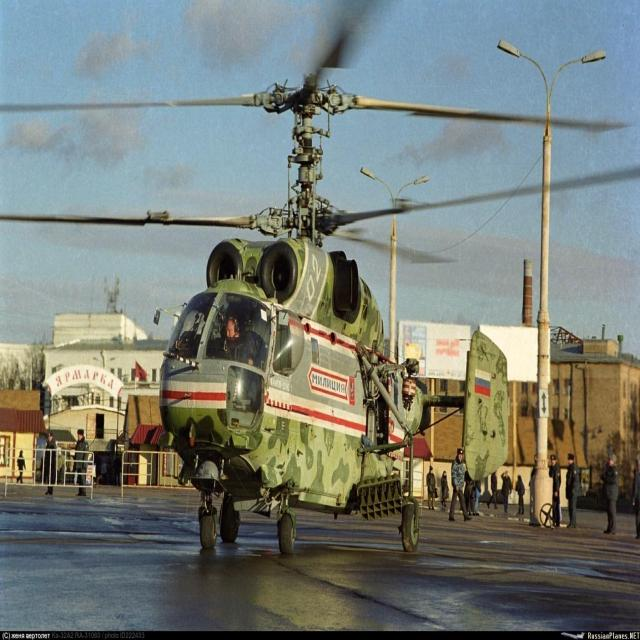MIL_HELO: (0, 0, 640, 579)
